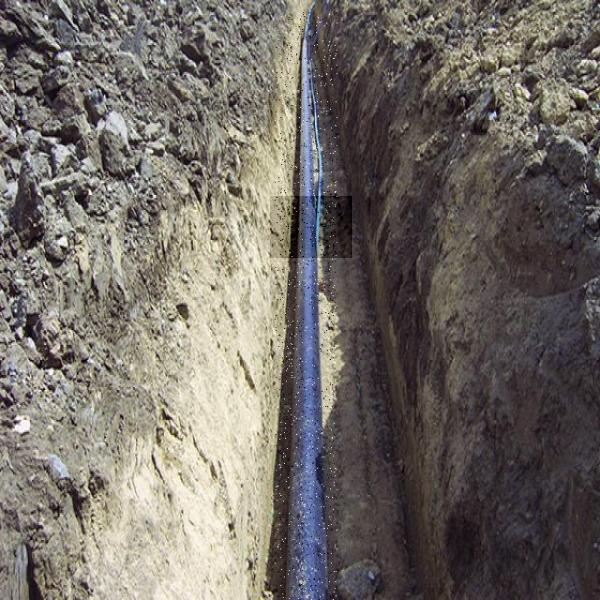no leak: (270, 196, 352, 258)
